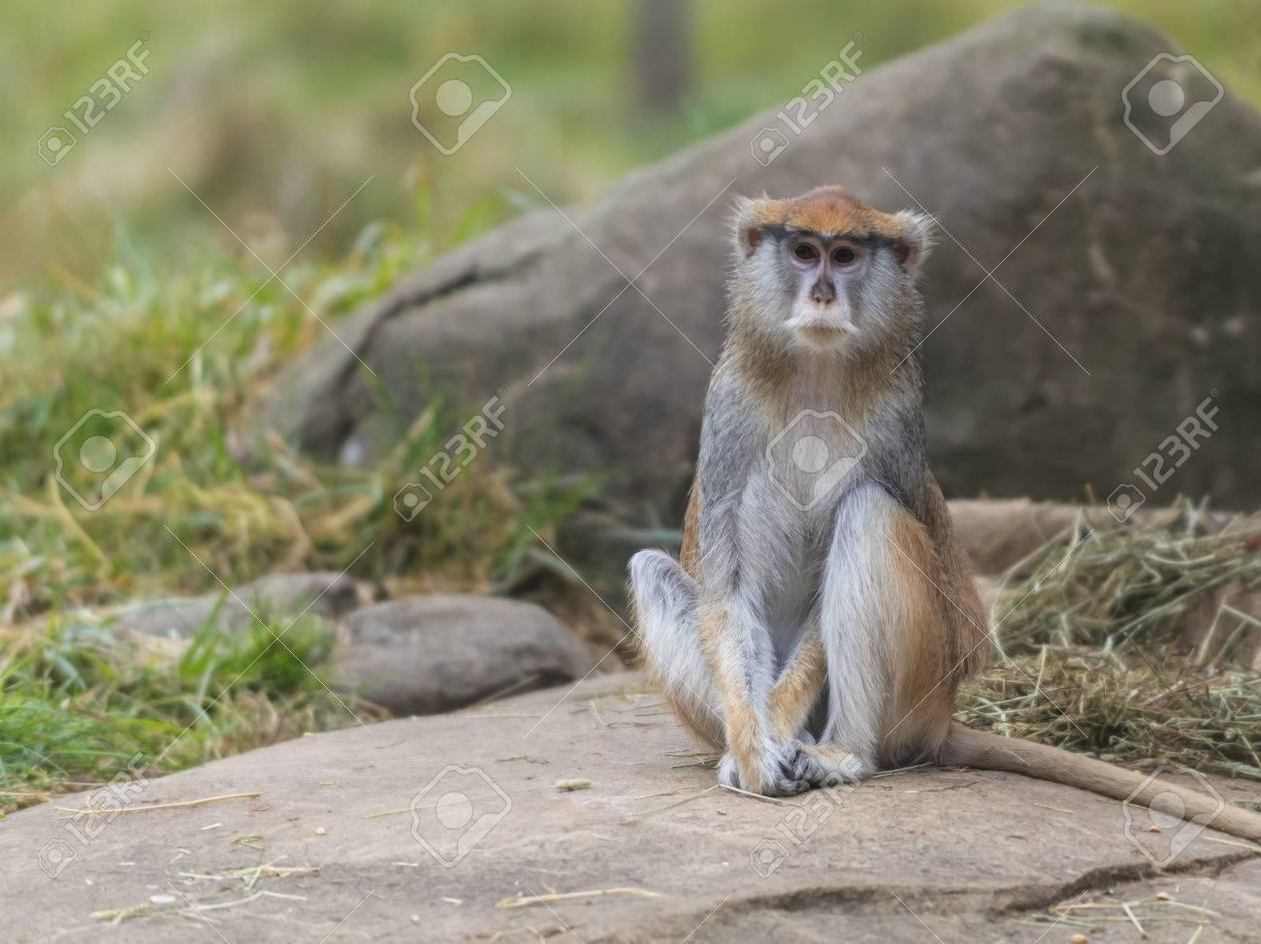monkey: (637, 185, 998, 801)
